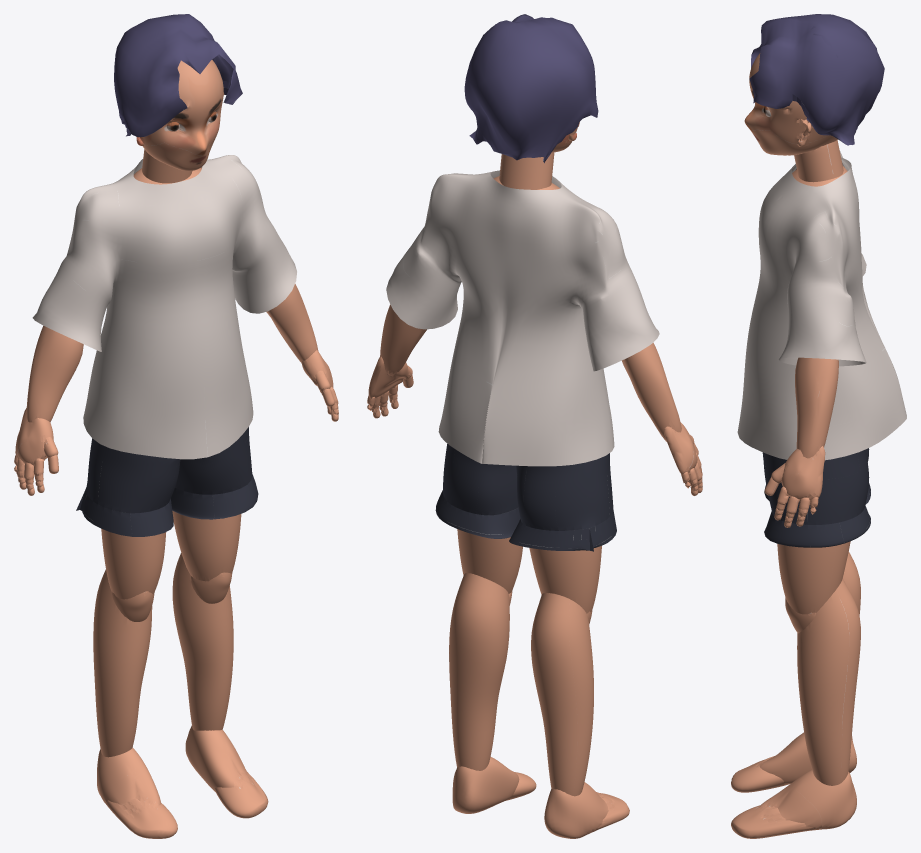
The model's file is tao may mukha.fbx.
The picture shows the model from 3 angles, left to right: view 1: azimuth 30°, elevation 25°; view 2: azimuth 150°, elevation 25°; view 3: azimuth 270°, elevation 25°; orthographic projection. The views are drawn at different scales.
Parts seen in each view (by area): view 1: tao1:shirt_lambert3SG, tao1:human_model2_lambert2SG_1, tao1:human_model2_lambert2SG, tao1:short_lambert4SG, tao1:human_model2_blinn1SG, tao1:human_model2_lambert2SG_2; view 2: tao1:shirt_lambert3SG, tao1:human_model2_lambert2SG_1, tao1:human_model2_lambert2SG, tao1:human_model2_blinn1SG, tao1:short_lambert4SG, tao1:human_model2_lambert2SG_2; view 3: tao1:shirt_lambert3SG, tao1:human_model2_lambert2SG, tao1:human_model2_blinn1SG, tao1:human_model2_lambert2SG_1, tao1:short_lambert4SG.
Boxes of the visible parts, x1,y1,x2,y2 form: tao1:shirt_lambert3SG: (32,155,296,459); tao1:human_model2_lambert2SG_1: (15,60,338,838); tao1:human_model2_lambert2SG: (172,167,333,818); tao1:short_lambert4SG: (76,427,258,536); tao1:human_model2_blinn1SG: (114,14,242,137); tao1:human_model2_lambert2SG_2: (14,168,201,495); tao1:shirt_lambert3SG: (386,170,659,466); tao1:human_model2_lambert2SG_1: (367,122,697,838); tao1:human_model2_lambert2SG: (368,304,536,813); tao1:human_model2_blinn1SG: (464,14,598,163); tao1:short_lambert4SG: (435,444,616,551); tao1:human_model2_lambert2SG_2: (493,176,702,495); tao1:shirt_lambert3SG: (737,150,906,460); tao1:human_model2_lambert2SG: (731,119,860,838); tao1:human_model2_blinn1SG: (749,14,884,145); tao1:human_model2_lambert2SG_1: (731,53,860,792); tao1:short_lambert4SG: (762,448,870,547).
Bounding box in the file's own units: 3.79 × 8.91 × 1.79.
